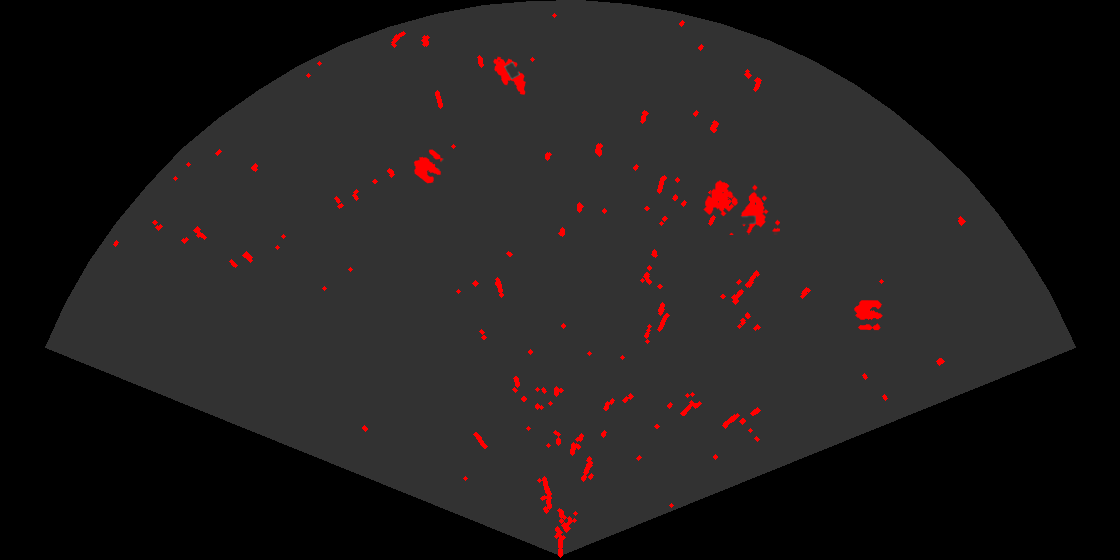AUV: (492, 55, 527, 96)
ball: (412, 148, 444, 185), (853, 299, 884, 332)
cage: (702, 179, 780, 235)
